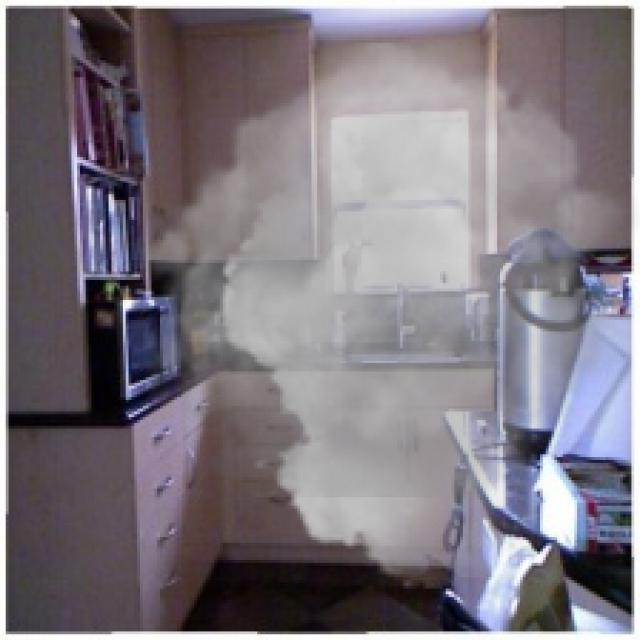smoke: (126, 43, 637, 591)
